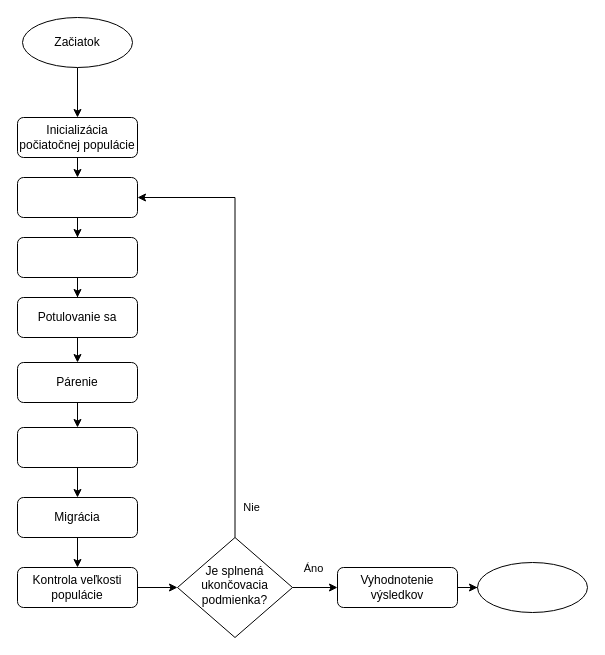
Image size: 605x655. Some labels were removed from this diagram. Here are the shapes that lost their labels. From the top down, the centre of each, then its label:
At pixel 77 197: "Lov".
At pixel 77 257: "Presun do bezpečia".
At pixel 77 447: "Obrana teritória".
At pixel 532 587: "Koniec".
